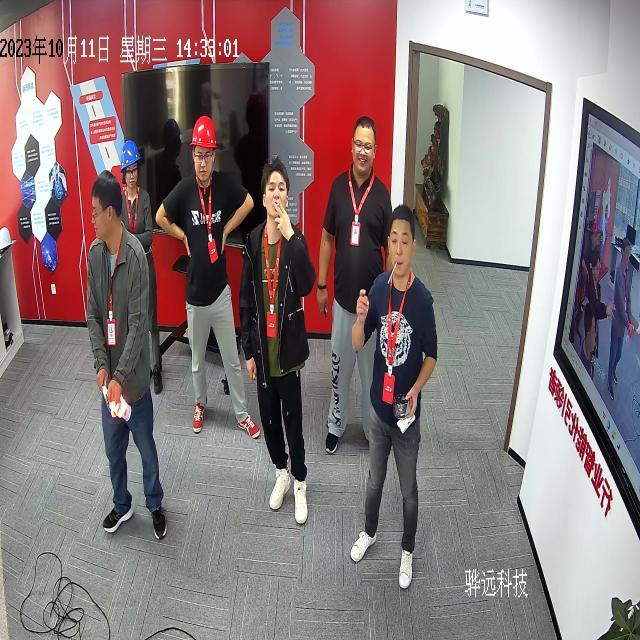Fire: (108, 400, 120, 416)
